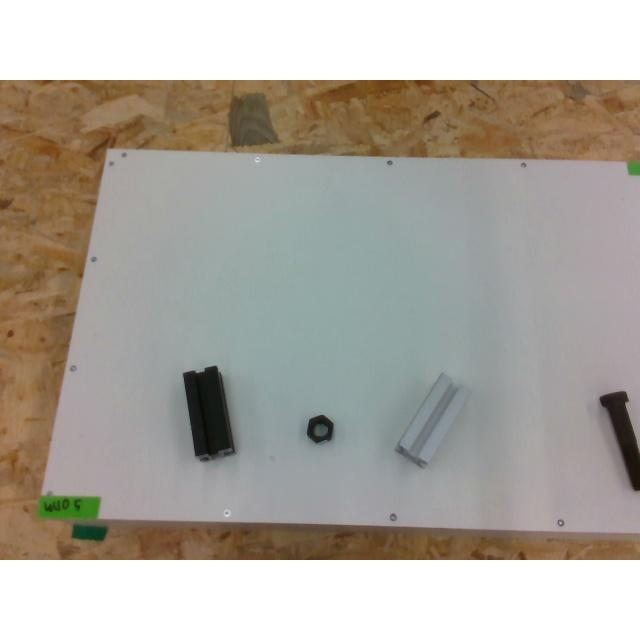M20: (306, 414, 334, 446)
M20_100: (599, 390, 639, 490)
S40_40_B: (183, 366, 235, 460)
S40_40_G: (394, 372, 470, 468)
